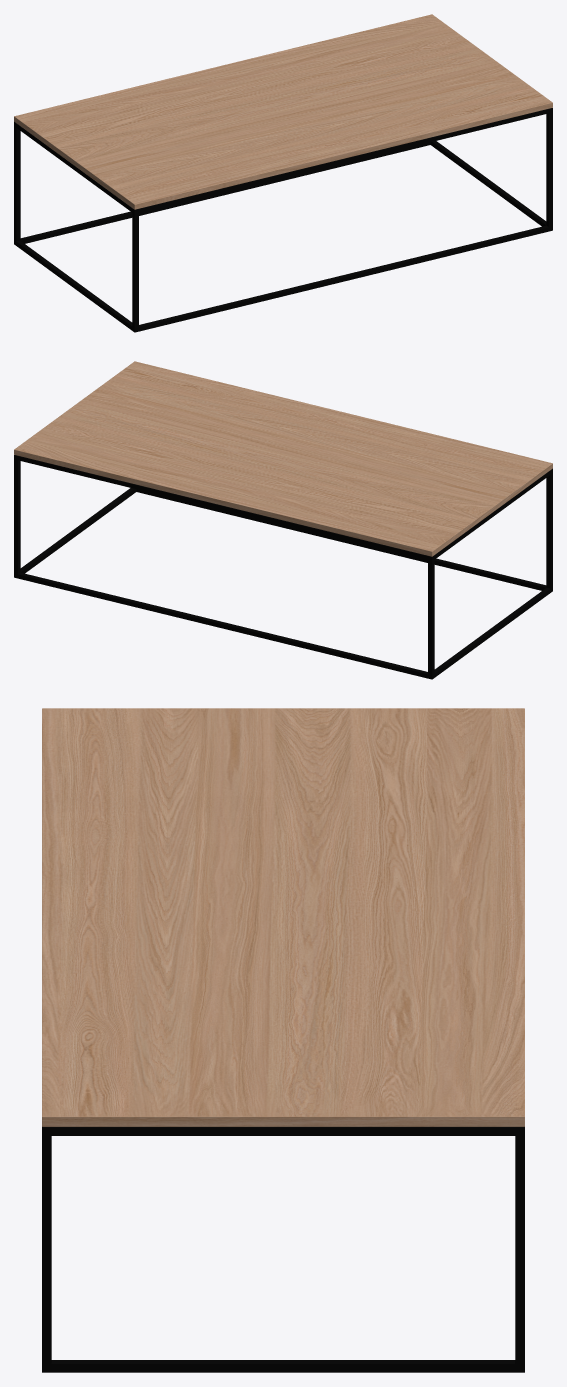
The model's file is kafibor_cofee_table_by_noo.ma.glb.
3 renders of one model, top to bottom at view 1: azimuth 30°, elevation 25°; view 2: azimuth 150°, elevation 25°; view 3: azimuth 270°, elevation 25°, orthographic. The views are drawn at different scales.
Parts seen in each view (by area): view 1: Nooma Kafibor Desk, Nooma Kafibor Frame; view 2: Nooma Kafibor Desk, Nooma Kafibor Frame; view 3: Nooma Kafibor Desk, Nooma Kafibor Frame.
Part boxes in pixels (left/top/right/bottom): Nooma Kafibor Desk: left=14, top=14, right=552, bottom=209; Nooma Kafibor Frame: left=14, top=108, right=552, bottom=332; Nooma Kafibor Desk: left=14, top=361, right=552, bottom=556; Nooma Kafibor Frame: left=14, top=455, right=552, bottom=679; Nooma Kafibor Desk: left=42, top=708, right=524, bottom=1126; Nooma Kafibor Frame: left=42, top=1127, right=524, bottom=1372.
Size of the model in its own units: 0.9727 by 0.2845 by 0.4863.
2 materials, 1 textured.
